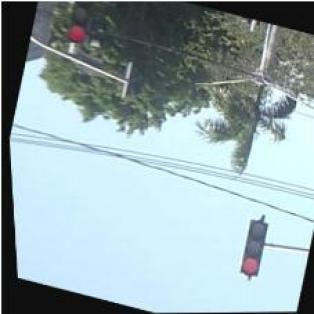Semaforo Rojo: (234, 220, 268, 278), (64, 1, 96, 44)
